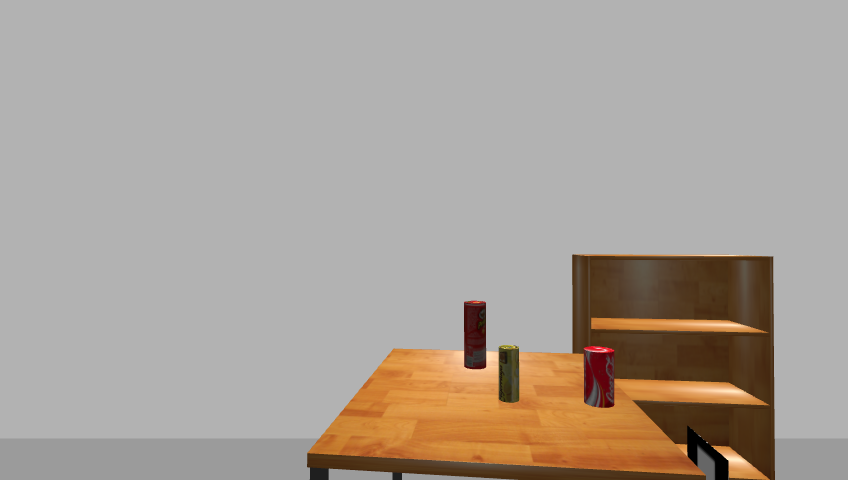aruco marker: (683, 426, 732, 480)
biscuits pack: (498, 346, 521, 404)
bookshelf: (567, 252, 782, 479)
coke can: (582, 347, 617, 408)
dinner table: (302, 347, 704, 480)
pringles can: (461, 301, 488, 370)
